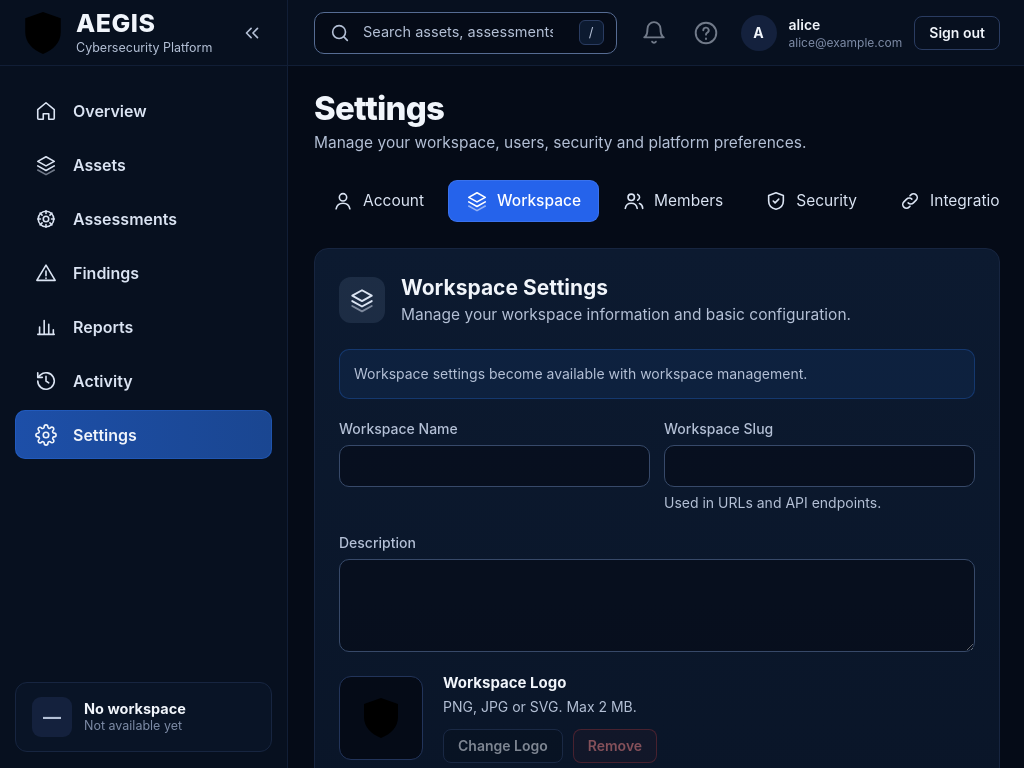
it: profile › offers a retry when the profile cannot be loaded
The image size is (1024, 768).
What coordinates should you click on to do the following:
click the tab "Account"
I would click on:
 (378, 201)
Its box is top-left (314, 180), bottom-right (442, 222).
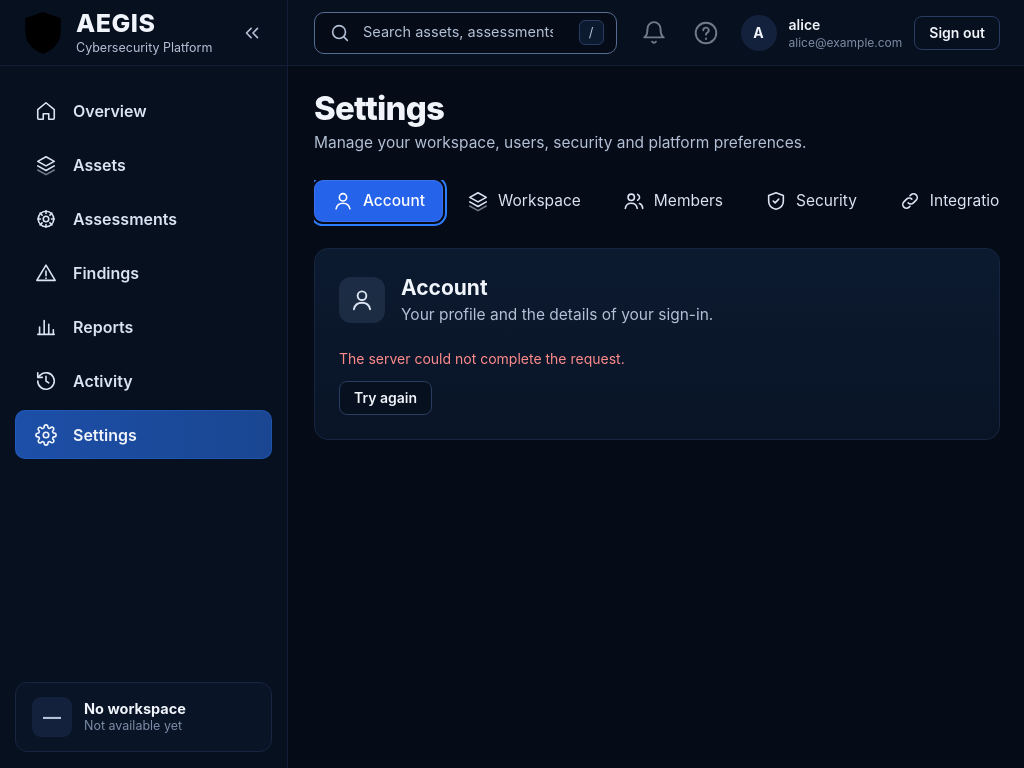
Expected: the message shows "could not complete the request", top-left (339, 350), bottom-right (625, 367)
Expected: the button "Try again" is shown, top-left (339, 381), bottom-right (432, 415)
